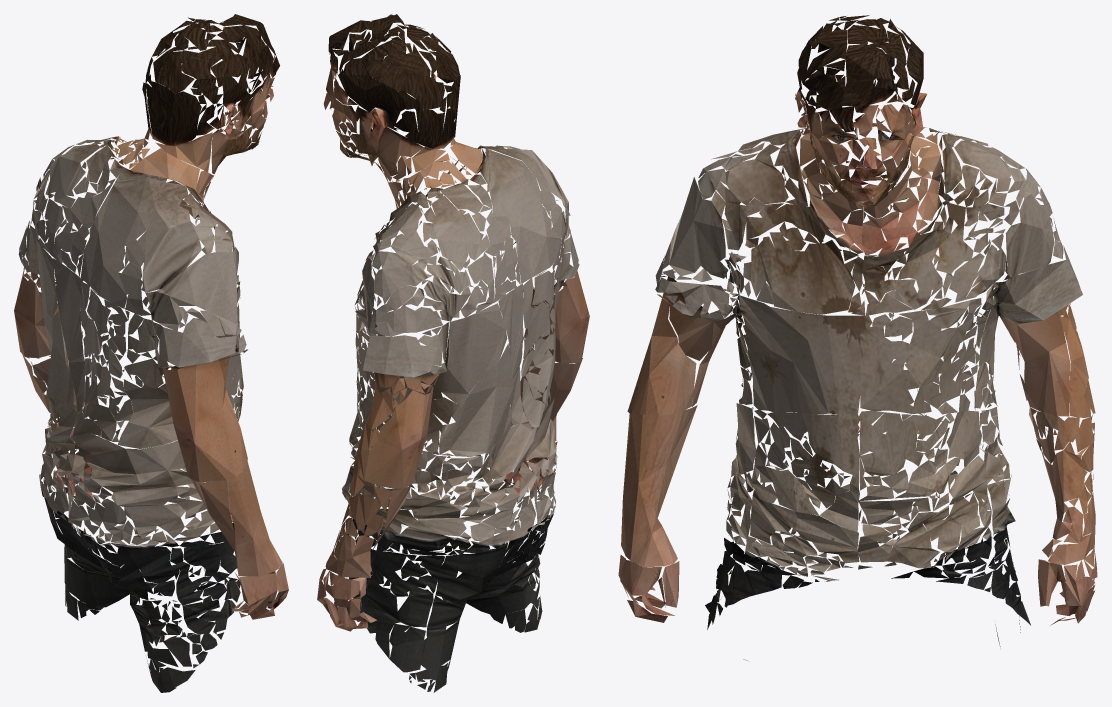
The model's file is bt_muddy_man.glb.
3 views of the same model, side by side, from view 1: azimuth 30°, elevation 25°; view 2: azimuth 150°, elevation 25°; view 3: azimuth 270°, elevation 25° (orthographic). The views are drawn at different scales.
Visible parts, largest first — view 1: muddy_man_by_tripo; view 2: muddy_man_by_tripo; view 3: muddy_man_by_tripo.
Part boxes in pixels (bbox=[...]): muddy_man_by_tripo: bbox=[14, 14, 288, 692]; muddy_man_by_tripo: bbox=[317, 14, 589, 692]; muddy_man_by_tripo: bbox=[618, 15, 1097, 660].
Size of the model in its own units: 0.2356 by 0.6577 by 0.3934.
Materials: 1 (1 with a texture image).
